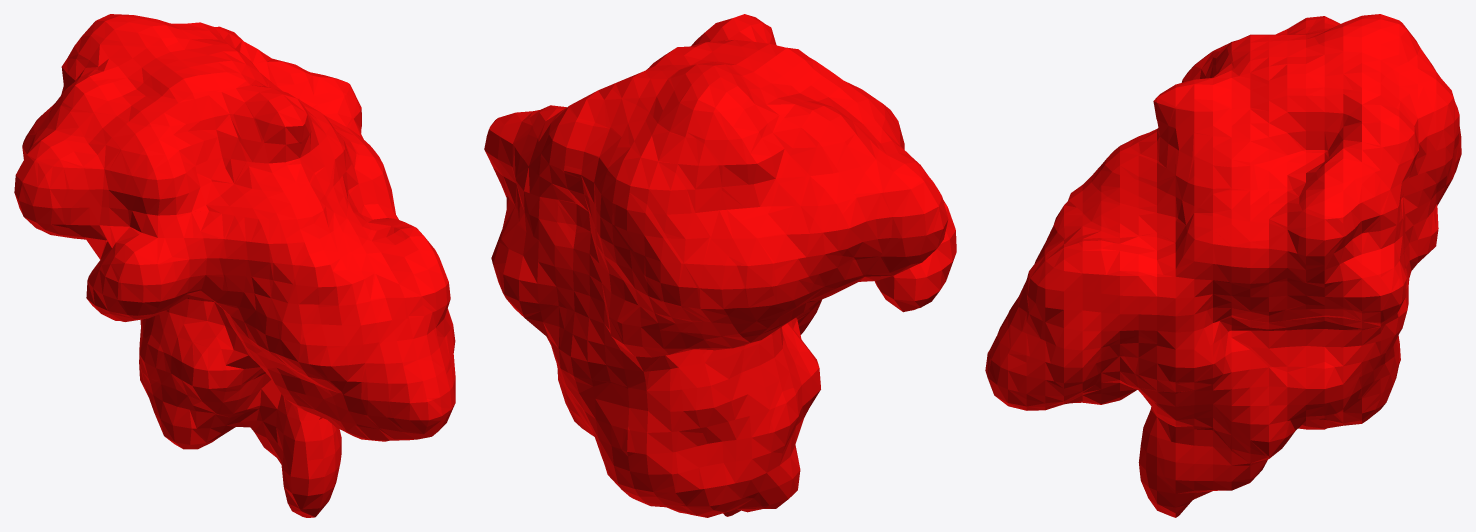
File: fumA_coarse.dae
The picture shows the model from 3 angles, left to right: view 1: azimuth 30°, elevation 25°; view 2: azimuth 150°, elevation 25°; view 3: azimuth 270°, elevation 25°; orthographic projection. The views are drawn at different scales.
Visible parts, largest first — view 1: fumA; view 2: fumA; view 3: fumA.
Part boxes in pixels (bbox=[...]): fumA: bbox=[14, 14, 455, 517]; fumA: bbox=[484, 14, 956, 517]; fumA: bbox=[985, 14, 1461, 517].
Size of the model in its own units: 65.83 by 79.31 by 75.02.
